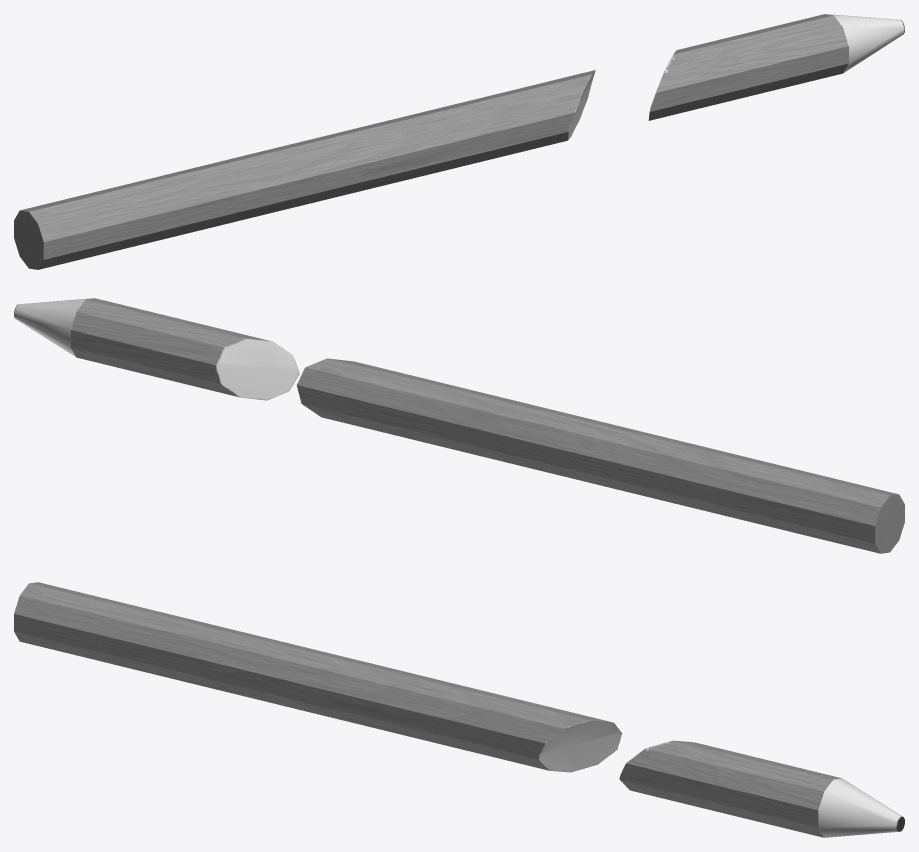
File: BrokenPencil_mesh.fbx
The picture shows the model from 3 angles, top to bottom: view 1: azimuth 30°, elevation 25°; view 2: azimuth 150°, elevation 25°; view 3: azimuth 330°, elevation 25°; orthographic projection.
Visible parts, largest first — view 1: BrokenPencil_Bottom_low, BrokenPencil_Top_low; view 2: BrokenPencil_Bottom_low, BrokenPencil_Top_low; view 3: BrokenPencil_Bottom_low, BrokenPencil_Top_low.
Boxes of the visible parts, x1=… form: BrokenPencil_Bottom_low: x1=14, y1=70, x2=595, y2=269; BrokenPencil_Top_low: x1=648, y1=14, x2=904, y2=120; BrokenPencil_Bottom_low: x1=296, y1=358, x2=904, y2=553; BrokenPencil_Top_low: x1=14, y1=298, x2=299, y2=400; BrokenPencil_Bottom_low: x1=14, y1=582, x2=622, y2=772; BrokenPencil_Top_low: x1=619, y1=740, x2=904, y2=837.
Size of the model in its own units: 8.88 by 0.5528 by 0.5258.
Materials: 1 (1 with a texture image).
